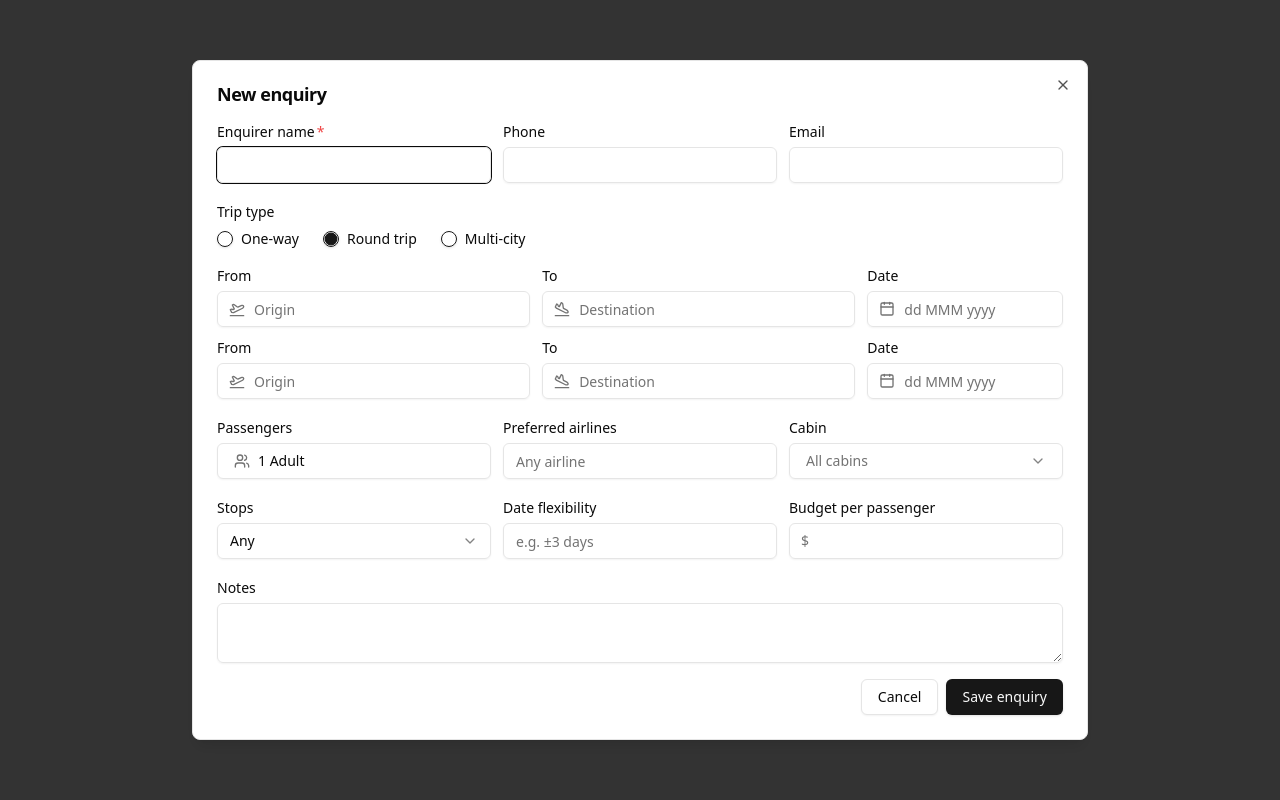
Test: EnquiryDialog trip fields › does not pin the return-leg flag when editing row 2 in multi-city, so round-trip mirroring still works after switching back
This screenshot has width=1280, height=800.
Switch to multi-city — row 2 here is an independent leg, not "the return leg".
Click the radio button named "Multi-city" next to "Multi-city".
click(449, 239)  # box x1=441 y1=231 x2=457 y2=247
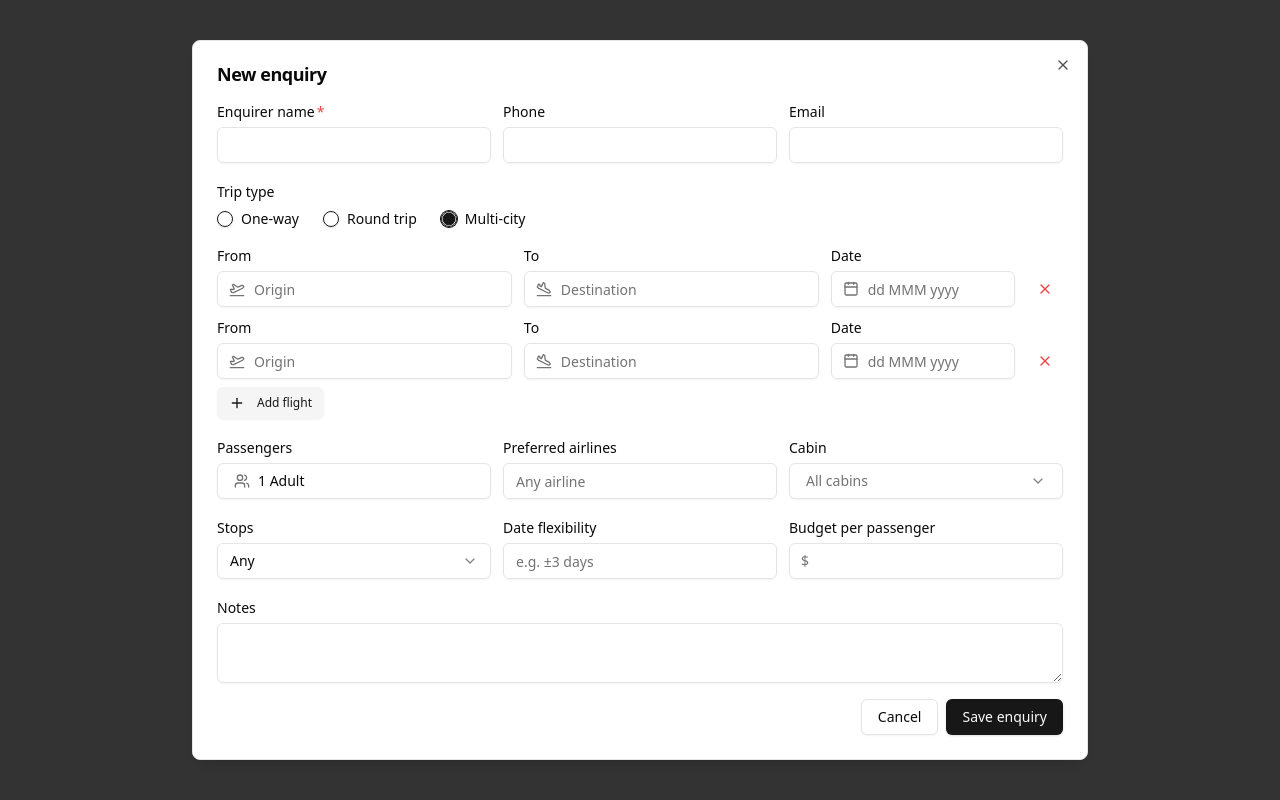
Type "DXB" into the dropdown named "From 2".
click(364, 361); type("DXB")  # box x1=217 y1=343 x2=512 y2=379
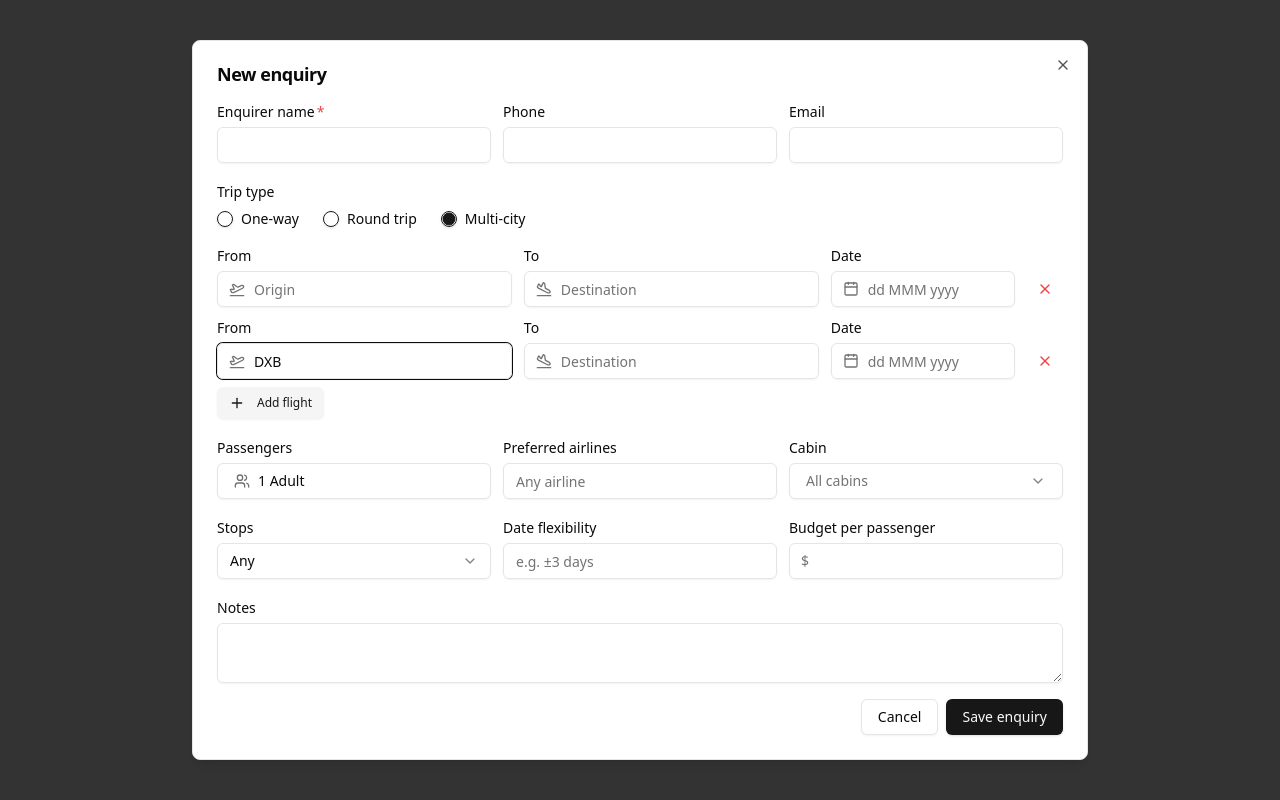
Type "LHR" into the dropdown named "To 2".
click(671, 361); type("LHR")  # box x1=524 y1=343 x2=819 y2=379
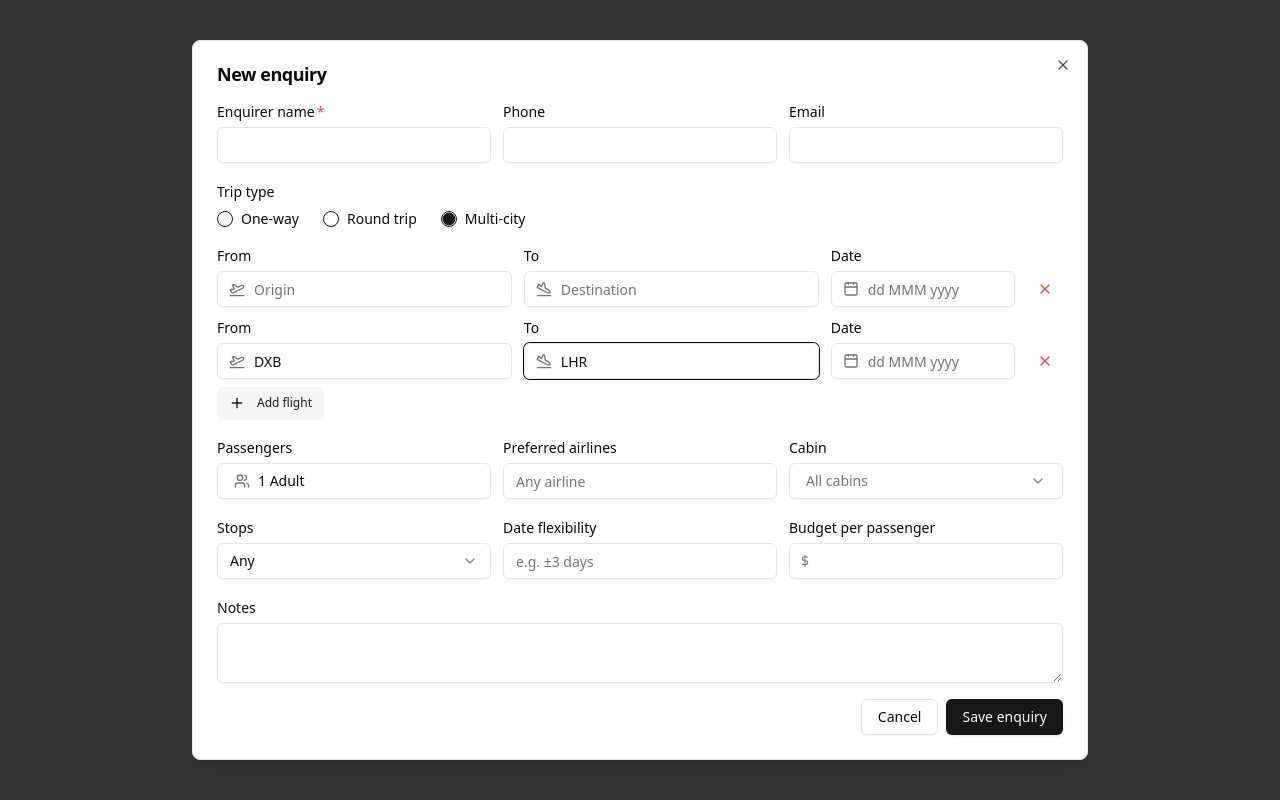
Switch back to round trip — row 2 (DXB/LHR) carries over as the existing inbound leg.
Click the radio button named "Round trip" next to "Round trip".
click(331, 219)  # box x1=323 y1=211 x2=339 y2=227
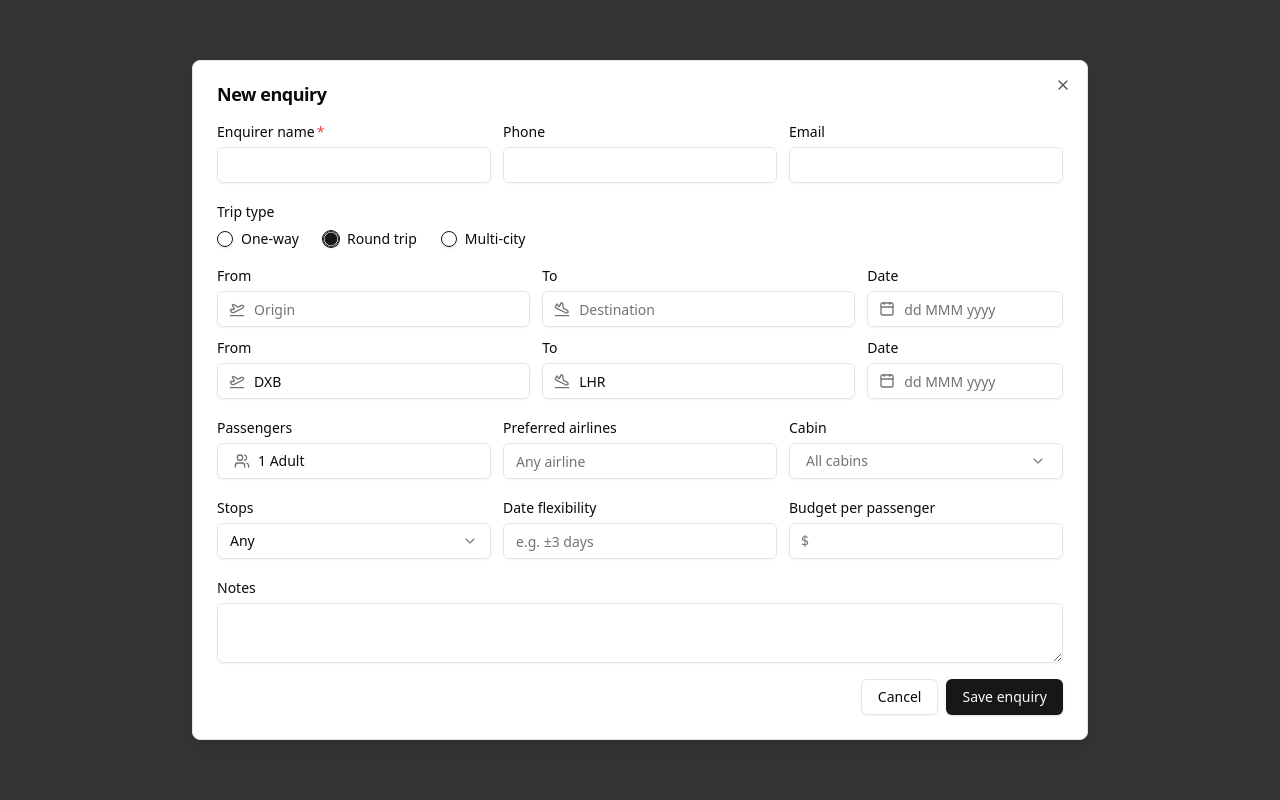
Now edit leg 1's route. If the flag were incorrectly stuck true, this would NOT mirror.
Type "IAH" into the dropdown named "From 1".
click(374, 309); type("IAH")  # box x1=217 y1=291 x2=530 y2=327
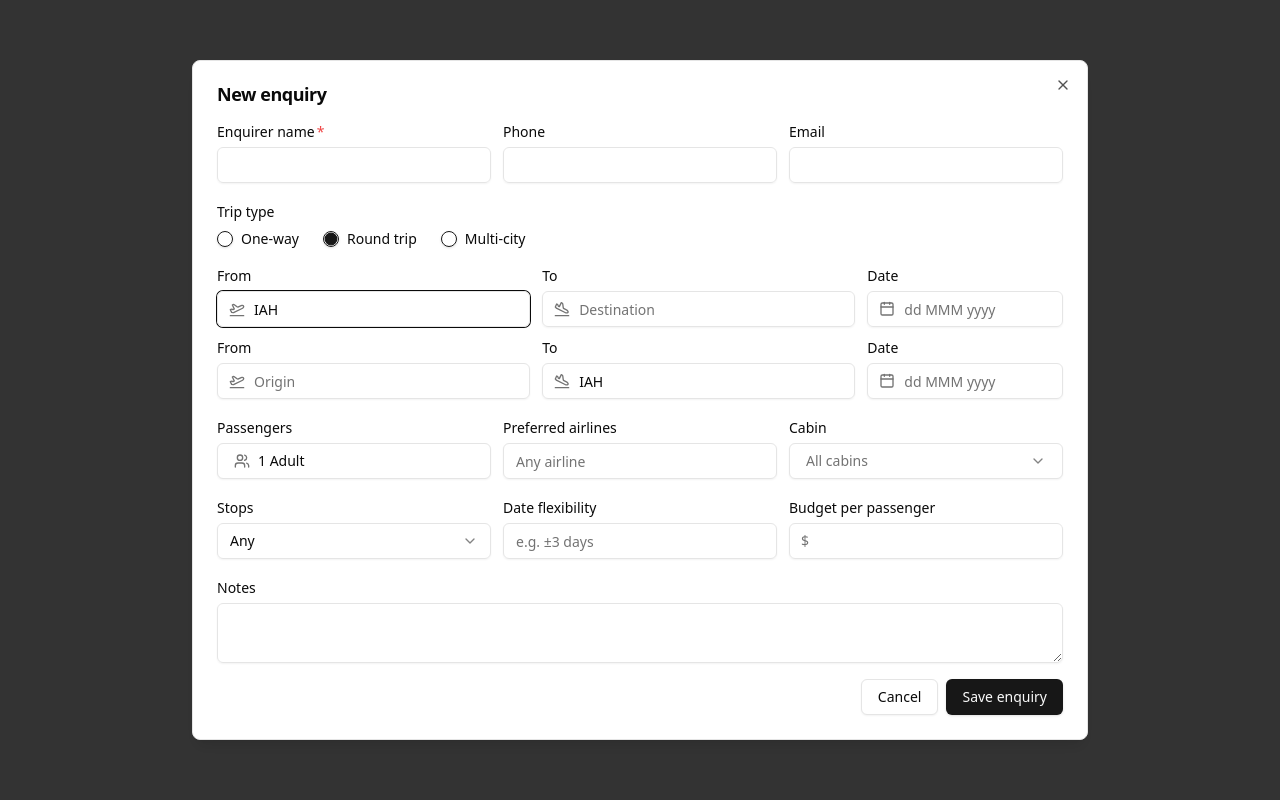
Type "COK" into the dropdown named "To 1".
click(699, 309); type("COK")  # box x1=542 y1=291 x2=855 y2=327
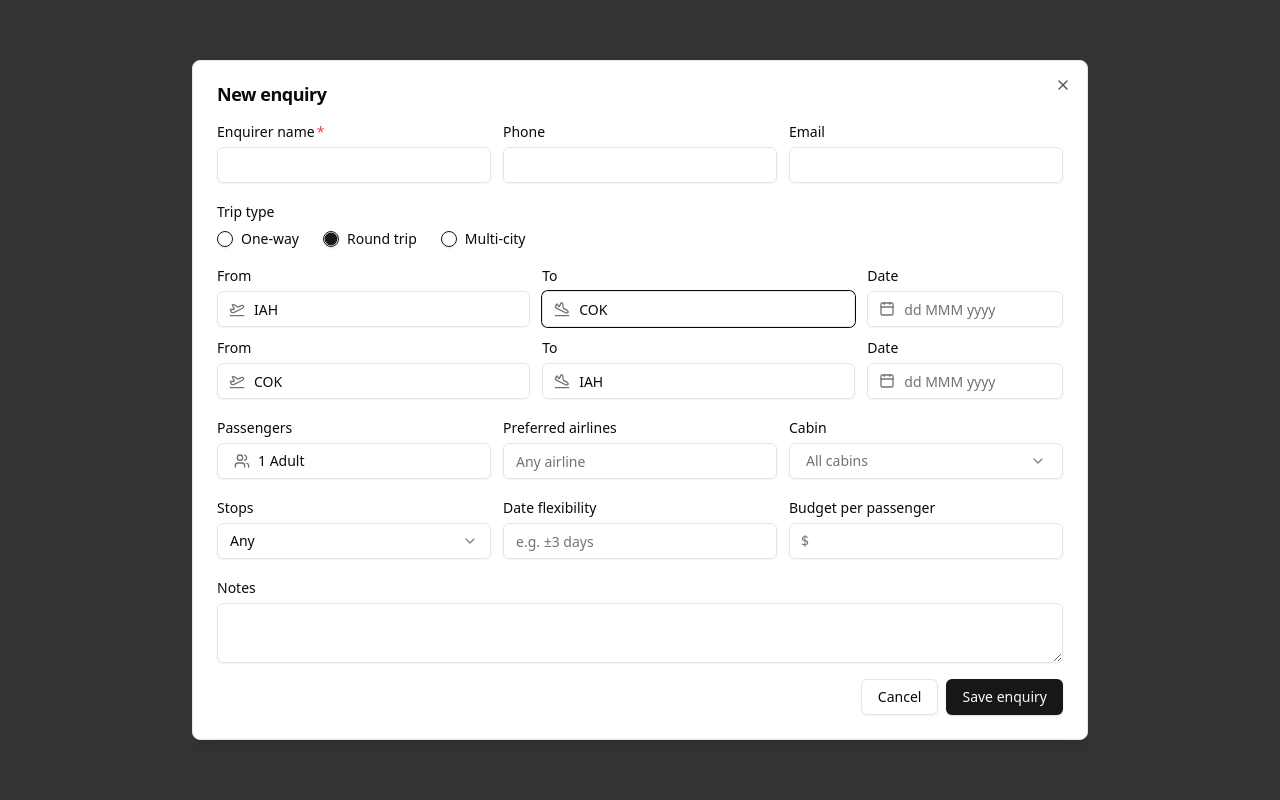
Expected: the dropdown named "To 2" holds "IAH", x1=542 y1=363 x2=855 y2=399
Expected: the dropdown named "From 2" holds "COK", x1=217 y1=363 x2=530 y2=399
